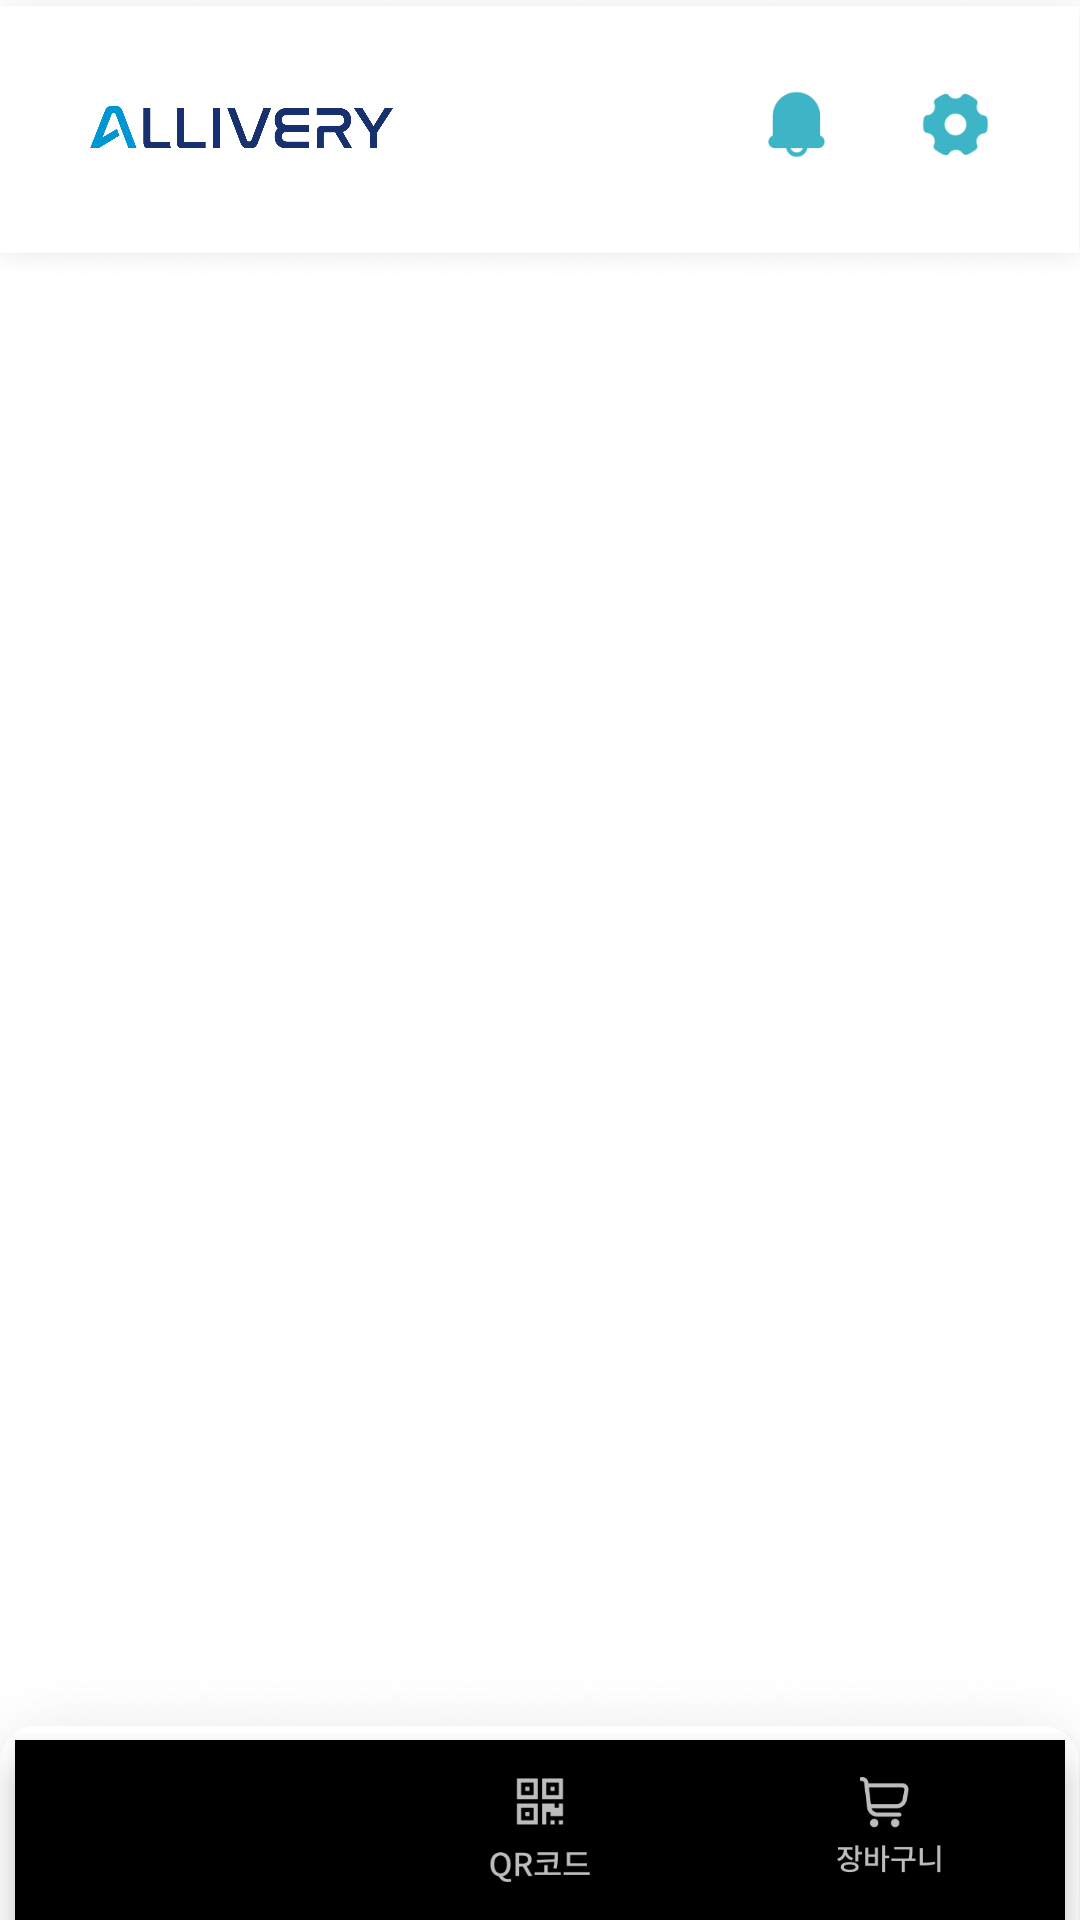

Icons on this 1080*1920 Android screen, each with its box as (x1, y1, x2, y2):
top alarm: (768, 91, 825, 157)
top setting: (922, 93, 988, 156)
